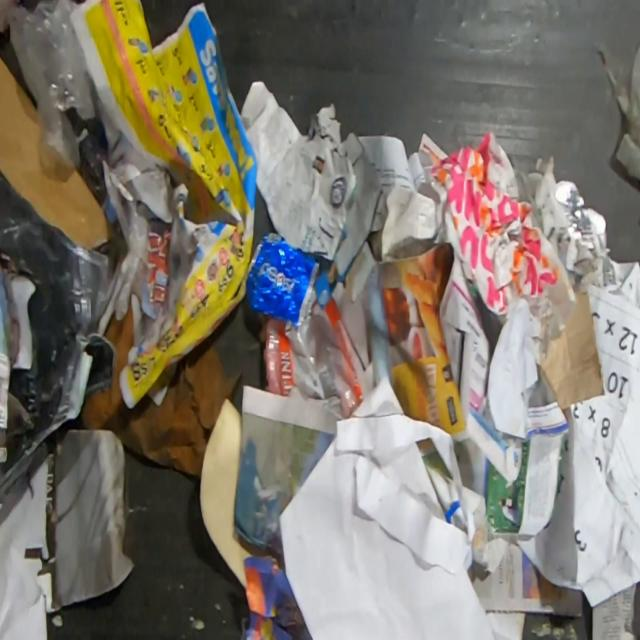cardboard: (80, 295, 244, 475), (0, 54, 114, 252)
metal: (244, 230, 320, 328)
soft_plastic: (2, 0, 94, 182), (264, 300, 364, 413), (598, 43, 640, 184)
